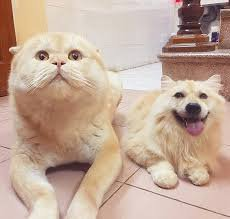cat: (6, 29, 130, 196)
dog: (135, 69, 230, 195)
